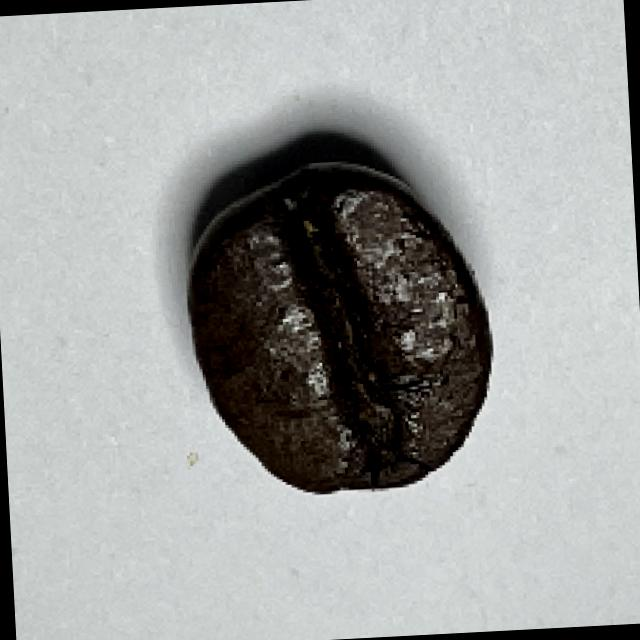bean: (178, 153, 507, 506)
